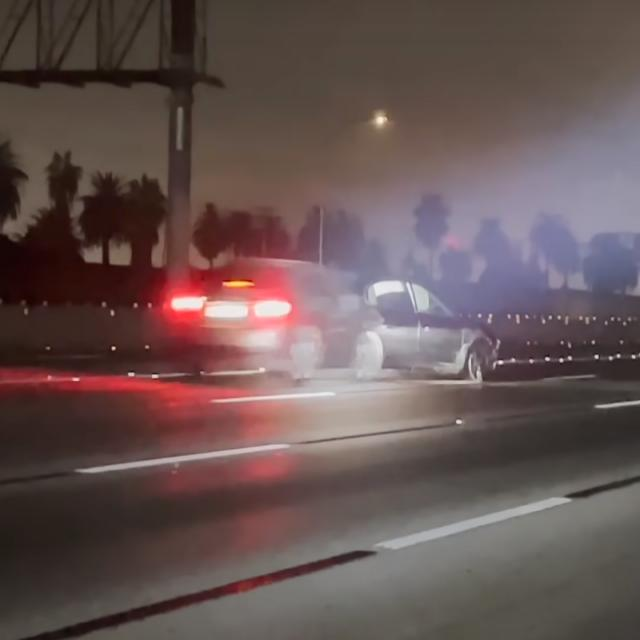accident: (176, 222, 522, 408)
